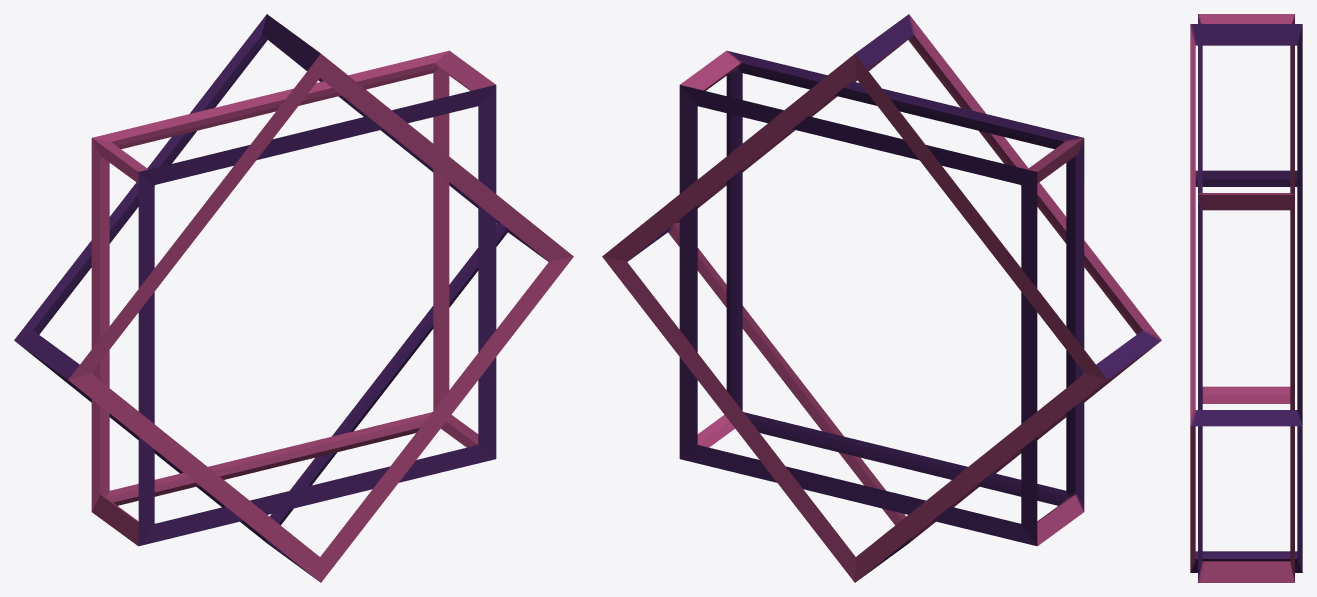
File: obstaculo_pular_1.fbx
3 renders of one model, left to right at view 1: azimuth 30°, elevation 25°; view 2: azimuth 150°, elevation 25°; view 3: azimuth 270°, elevation 25°, orthographic. The views are drawn at different scales.
Visible parts, largest first — view 1: Pular 1; view 2: Pular 1; view 3: Pular 1.
Part boxes in pixels (x1,y1,x2,y2): Pular 1: [14, 14, 573, 582]; Pular 1: [602, 14, 1161, 582]; Pular 1: [1190, 14, 1302, 582].
Bounding box in the file's own units: 202 × 202 × 37.33.
